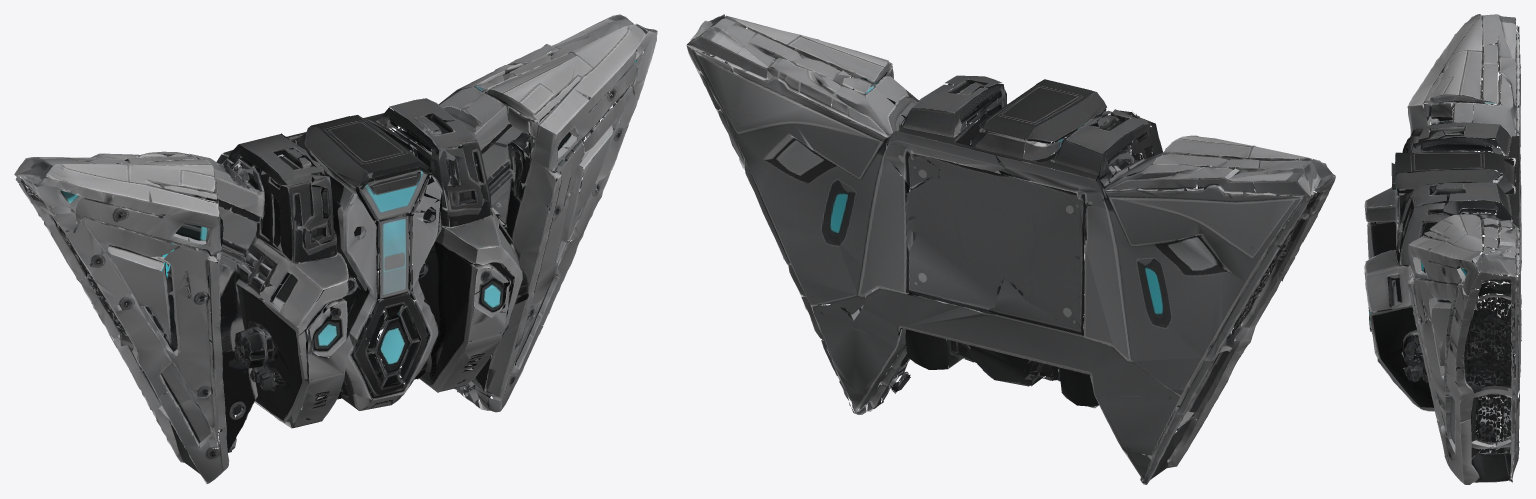
File: mecha_wing.fbx
The picture shows the model from 3 angles, left to right: view 1: azimuth 30°, elevation 25°; view 2: azimuth 150°, elevation 25°; view 3: azimuth 270°, elevation 25°; orthographic projection. The views are drawn at different scales.
Visible parts, largest first — view 1: MechaWing; view 2: MechaWing; view 3: MechaWing.
Boxes of the visible parts, left/top/right/bottom form: MechaWing: left=14, top=14, right=657, bottom=484; MechaWing: left=686, top=14, right=1335, bottom=484; MechaWing: left=1364, top=14, right=1521, bottom=484.
Bounding box in the file's own units: 6.99 × 3.71 × 1.81.
Materials: 1 (1 with a texture image).
